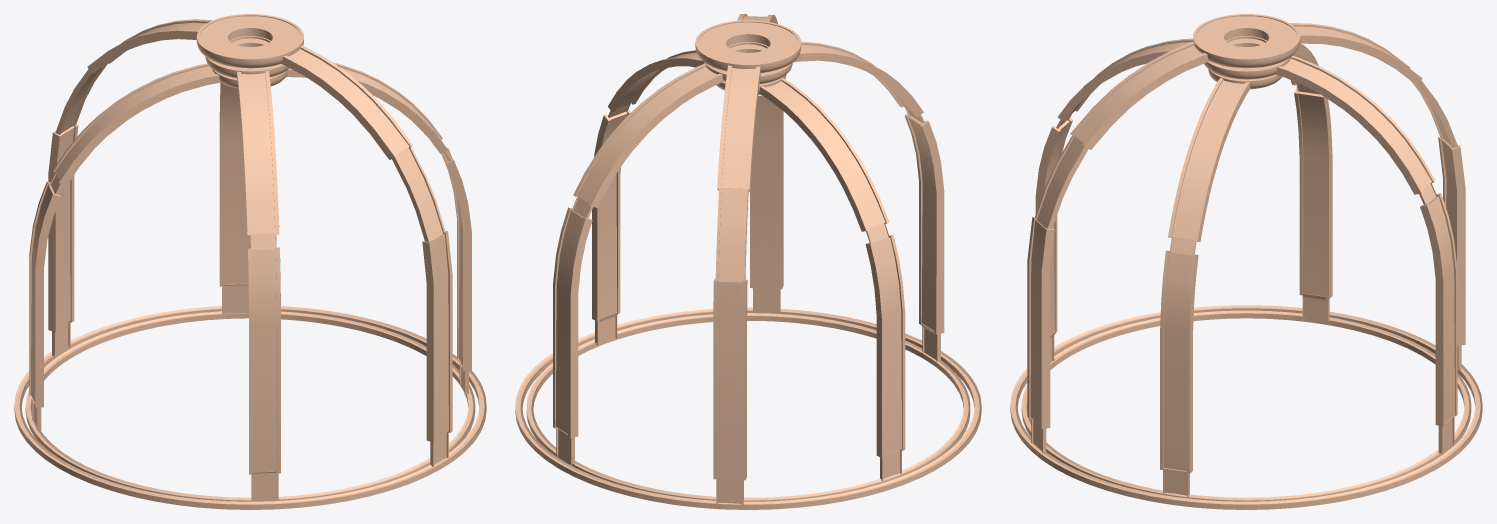
The model's file is Torbogen_03_mesh.fbx.
3 views of the same model, side by side, from view 1: azimuth 30°, elevation 25°; view 2: azimuth 150°, elevation 25°; view 3: azimuth 270°, elevation 25° (orthographic).
Visible parts, largest first — view 1: Cylinder.058, Circle.067, Circle.068, Cylinder.078, Cylinder.077; view 2: Cylinder.058, Circle.067, Circle.068, Cylinder.078, Cylinder.077; view 3: Circle.068, Cylinder.058, Circle.067, Cylinder.078, Cylinder.077.
Boxes of the visible parts, <box> form: Cylinder.058: <box>48,14,452,466</box>; Circle.067: <box>205,38,289,501</box>; Circle.068: <box>29,62,471,430</box>; Cylinder.078: <box>14,306,486,509</box>; Cylinder.077: <box>25,311,475,501</box>; Cylinder.058: <box>695,14,801,504</box>; Circle.067: <box>553,41,944,465</box>; Circle.068: <box>592,50,905,480</box>; Cylinder.078: <box>515,307,981,509</box>; Cylinder.077: <box>526,313,970,501</box>; Circle.068: <box>1160,43,1332,496</box>; Cylinder.058: <box>1027,14,1465,453</box>; Circle.067: <box>1035,38,1457,454</box>; Cylinder.078: <box>1010,305,1482,509</box>; Cylinder.077: <box>1021,310,1471,501</box>.
Size of the model in its own units: 1.94 by 2.22 by 2.22.
